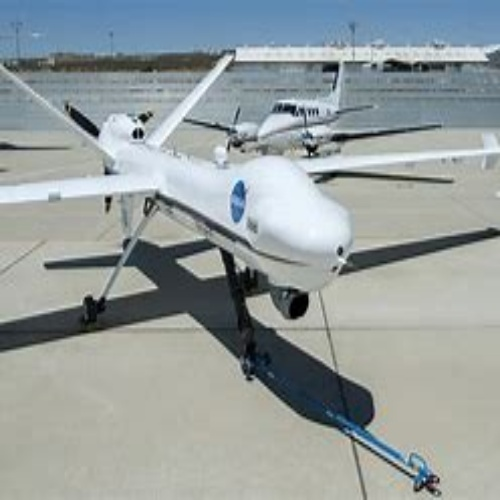uav: (4, 53, 498, 322)
